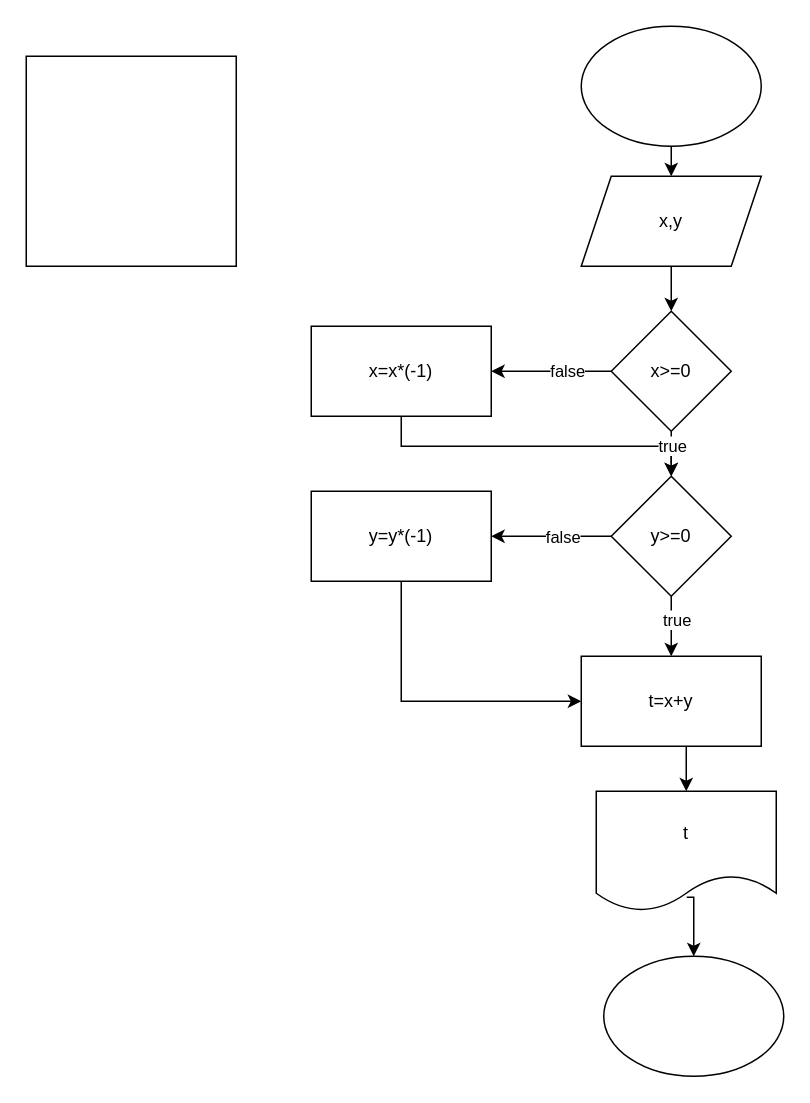
Image size: 810x1103. Some labels were removed from this diagram. Here are the shapes that lost their labels. From the top down, the centre of each, then its label:
point 670,85: Start
point 130,160: Verilmis 2 ededin modullari cemini tapan proqram
point 693,1015: End
